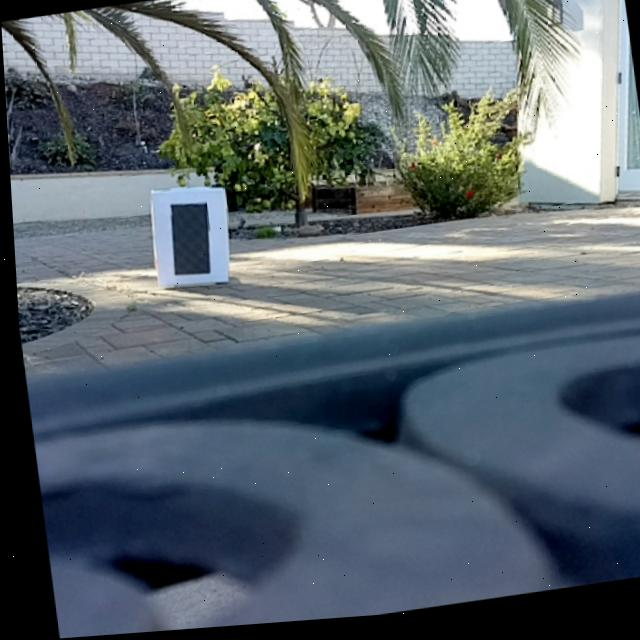led: (169, 198, 211, 279)
